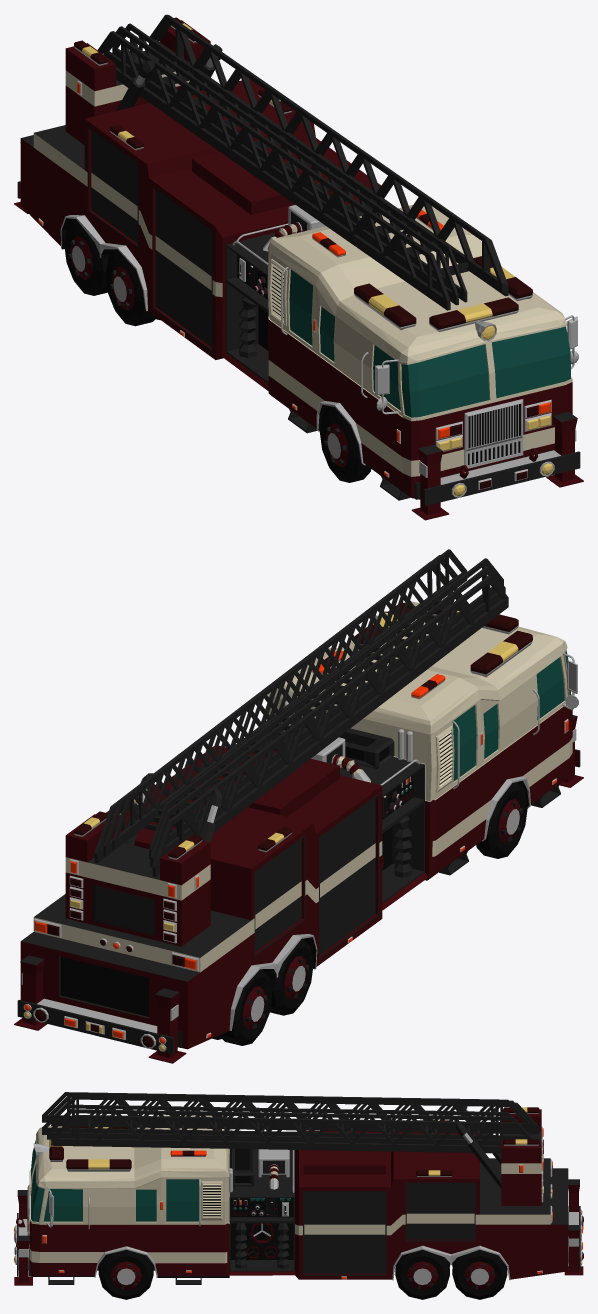
Rendered from FireTruck.FBX.
The picture shows the model from 3 angles, top to bottom: view 1: azimuth 30°, elevation 25°; view 2: azimuth 150°, elevation 25°; view 3: azimuth 270°, elevation 25°; orthographic projection. The views are drawn at different scales.
Visible parts, largest first — view 1: FireTruck, ladder, ladder_03, ladder_02, bumper_f, signalLights_01, wheel_f_r, equipment, wheels_b1_r, wheels_b2_r, lights, signalLights_02 (+3 smaller); view 2: FireTruck, ladder, ladder_03, ladder_02, bumper_b, equipment, wheel_f_r, wheels_b2_r, wheels_b1_r, signalLights_01, lights, lights-ladder (+2 smaller); view 3: FireTruck, ladder, ladder_03, ladder_02, equipment, wheel_f_l, wheels_b1_l, wheels_b2_l, bumper_b, bumper_f, signalLights_01, lights (+4 smaller).
Part boxes in pixels (x1,y1,x2,y2): FireTruck: [20, 78, 572, 500]; ladder: [65, 20, 508, 310]; ladder_03: [112, 14, 503, 302]; ladder_02: [103, 15, 505, 305]; bumper_f: [411, 412, 583, 520]; signalLights_01: [110, 89, 538, 436]; wheel_f_r: [320, 406, 371, 482]; equipment: [239, 205, 361, 357]; wheels_b1_r: [105, 249, 160, 326]; wheels_b2_r: [64, 219, 107, 295]; lights: [38, 94, 554, 497]; signalLights_02: [118, 99, 527, 489]; FireTruck: [20, 601, 572, 1049]; ladder: [65, 561, 508, 946]; ladder_03: [112, 549, 503, 858]; ladder_02: [103, 555, 505, 867]; bumper_b: [14, 955, 186, 1063]; equipment: [283, 701, 412, 877]; wheel_f_r: [476, 782, 527, 858]; wheels_b2_r: [212, 969, 271, 1045]; wheels_b1_r: [270, 938, 313, 1015]; signalLights_01: [100, 600, 532, 951]; lights: [23, 614, 568, 1051]; lights-ladder: [69, 818, 202, 943]; FireTruck: [27, 1115, 568, 1284]; ladder: [51, 1097, 541, 1205]; ladder_03: [42, 1092, 530, 1139]; ladder_02: [47, 1096, 535, 1145]; equipment: [229, 1129, 290, 1268]; wheel_f_l: [98, 1250, 153, 1299]; wheels_b1_l: [395, 1249, 449, 1299]; wheels_b2_l: [452, 1250, 507, 1299]; bumper_b: [564, 1179, 583, 1275]; bumper_f: [14, 1190, 32, 1285]; signalLights_01: [27, 1120, 552, 1220]; lights: [15, 1143, 582, 1279].
Size of the model in its own units: 38.3 by 45.14 by 135.
